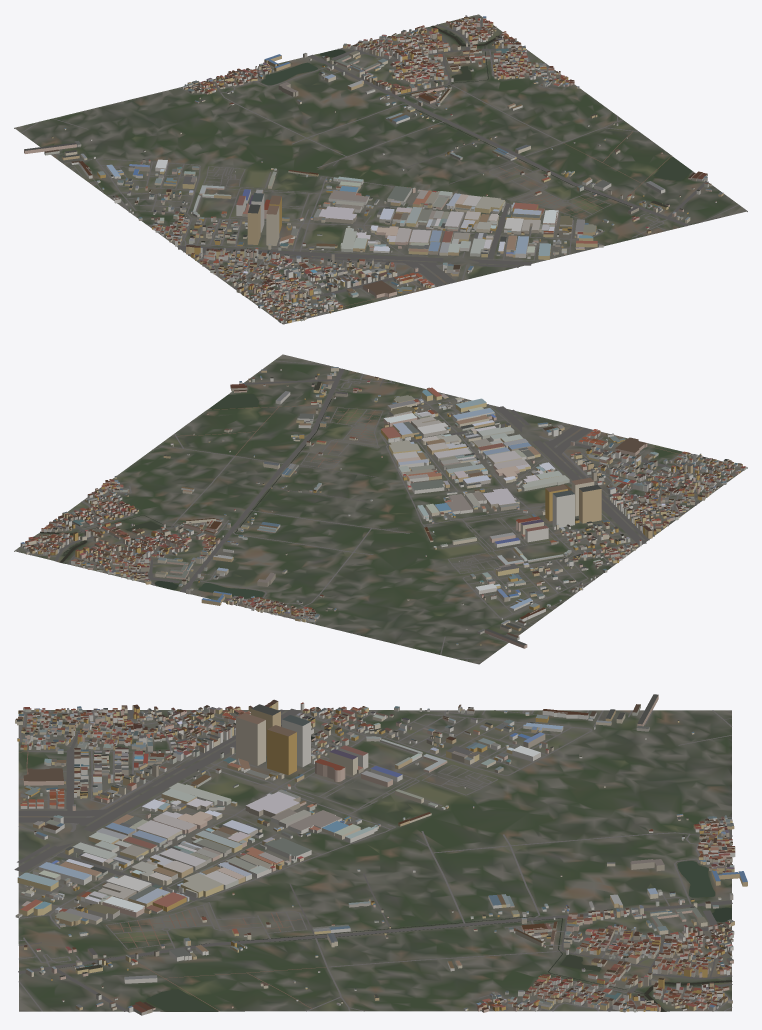
The picture shows the model from 3 angles, top to bottom: view 1: azimuth 30°, elevation 25°; view 2: azimuth 150°, elevation 25°; view 3: azimuth 270°, elevation 25°; orthographic projection. The views are drawn at different scales.
Visible parts, largest first — view 1: ground, buildings, roads, water; view 2: ground, buildings, roads, water; view 3: ground, buildings, roads, water.
Part boxes in pixels (x1,y1,x2,y2): ground: (14, 14, 747, 324); buildings: (24, 15, 723, 323); roads: (21, 15, 738, 323); water: (261, 25, 692, 206); ground: (14, 354, 747, 664); buildings: (20, 367, 746, 648); roads: (17, 360, 739, 661); water: (40, 394, 331, 598); ground: (18, 710, 731, 1011); buildings: (15, 694, 747, 1015); roads: (14, 708, 732, 1011); water: (62, 861, 732, 1011).
Bounding box in the file's own units: 1474 × 95.68 × 1443.
